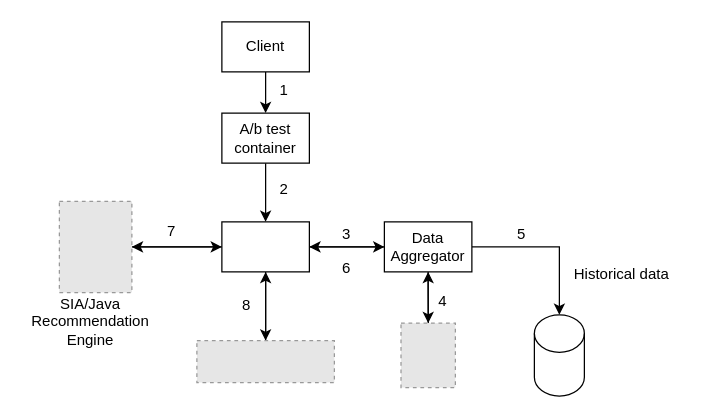
Image size: 705x419. Some labels were removed from this diagram. Grey dashed boxes stand in for pictures. Here are the shapes that lost their labels. From the top down, the box of each, then its label:
(221, 221, 309, 272): JFS
(533, 314, 584, 396): Cache
